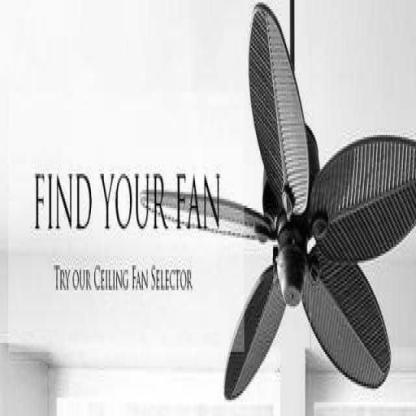ceiling-fan: (140, 7, 415, 398)
